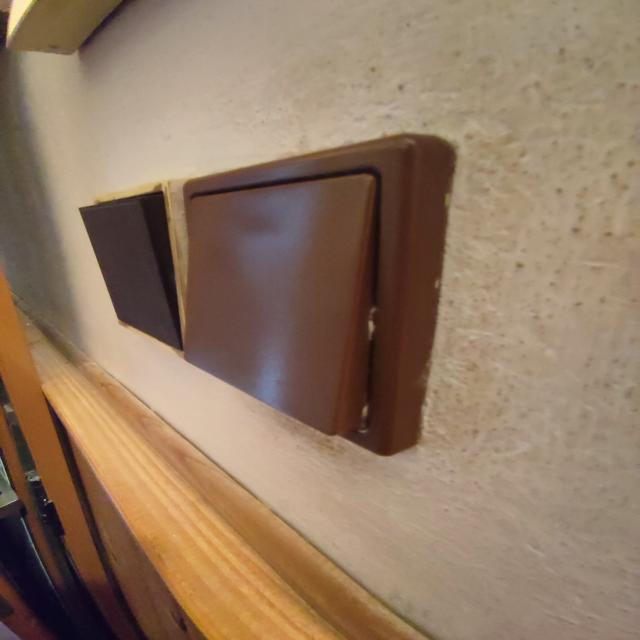house switch: (183, 135, 457, 456), (79, 180, 183, 351)
